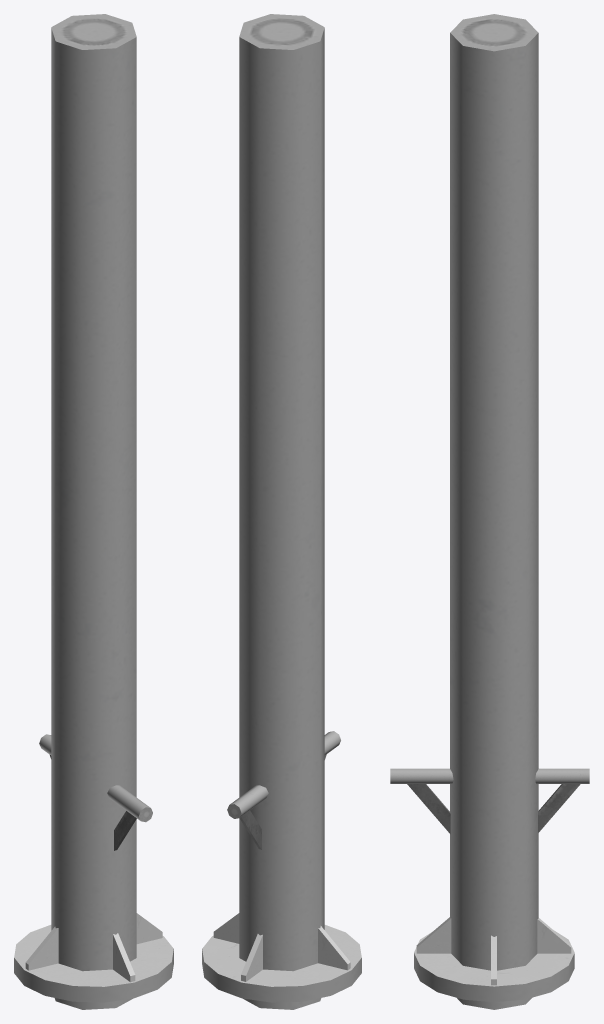
Rendered from MB_Foot_Shower.fbx.
3 renders of one model, left to right at view 1: azimuth 30°, elevation 25°; view 2: azimuth 150°, elevation 25°; view 3: azimuth 270°, elevation 25°, orthographic.
Parts seen in each view (by area): view 1: MB_Foot_Shower; view 2: MB_Foot_Shower; view 3: MB_Foot_Shower.
Boxes of the visible parts, x1,y1,x2,y2 form: MB_Foot_Shower: [14, 14, 173, 1009]; MB_Foot_Shower: [202, 14, 361, 1009]; MB_Foot_Shower: [390, 14, 589, 1009].
Bounding box in the file's own units: 32.81 × 216 × 40.6.
